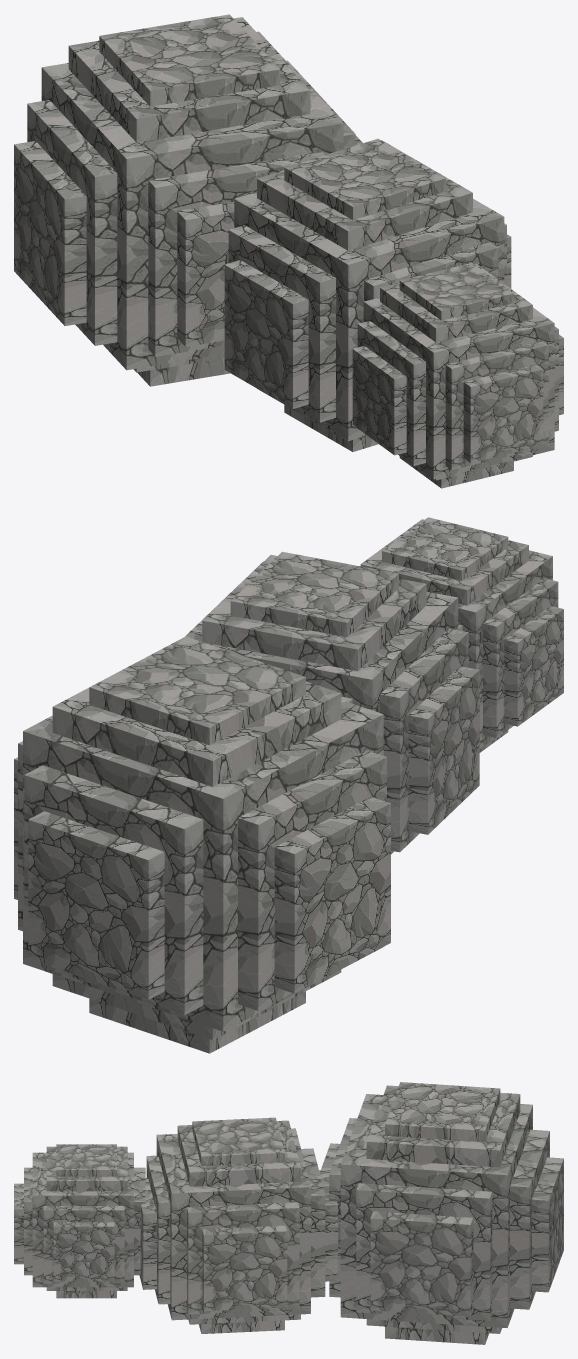
Rendered from ColaOnix.obj.
The picture shows the model from 3 angles, top to bottom: view 1: azimuth 30°, elevation 25°; view 2: azimuth 150°, elevation 25°; view 3: azimuth 270°, elevation 25°; orthographic projection. The views are drawn at different scales.
Visible parts, largest first — view 1: Parte4; view 2: Parte4; view 3: Parte4.
Part boxes in pixels (x1,y1,x2,y2): Parte4: (14,14,563,488); Parte4: (14,517,563,1053); Parte4: (14,1082,563,1344).
Bounding box in the file's own units: 4.3 × 3.97 × 9.23.
